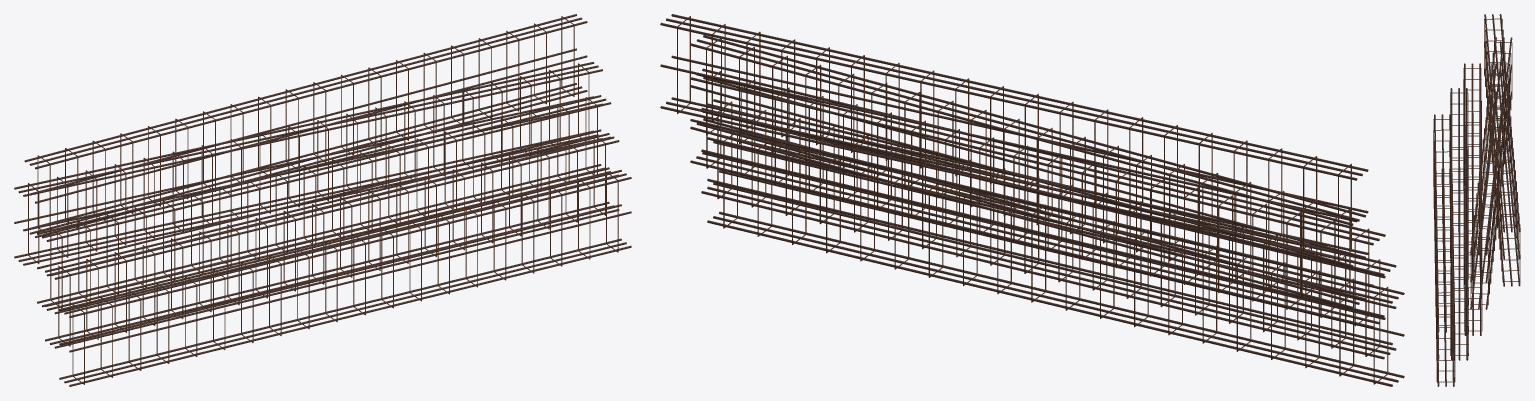
Rendered from EST-ARM-005_anim.glb.
3 views of the same model, side by side, from view 1: azimuth 30°, elevation 25°; view 2: azimuth 150°, elevation 25°; view 3: azimuth 270°, elevation 25° (orthographic). The views are drawn at different scales.
Visible parts, largest first — view 1: EST-ARM-005_anim0, EST-ARM-005_anim1, EST-ARM-005_anim3, EST-ARM-005_anim4, EST-ARM-005_anim2; view 2: EST-ARM-005_anim4, EST-ARM-005_anim3, EST-ARM-005_anim2, EST-ARM-005_anim0, EST-ARM-005_anim1; view 3: EST-ARM-005_anim4, EST-ARM-005_anim3, EST-ARM-005_anim0, EST-ARM-005_anim1, EST-ARM-005_anim2.
Part boxes in pixels (<box>): EST-ARM-005_anim0: <box>59,170,631,386</box>; EST-ARM-005_anim1: <box>45,133,619,348</box>; EST-ARM-005_anim3: <box>14,62,602,265</box>; EST-ARM-005_anim4: <box>24,14,587,237</box>; EST-ARM-005_anim2: <box>37,95,611,310</box>; EST-ARM-005_anim4: <box>660,14,1368,263</box>; EST-ARM-005_anim3: <box>690,35,1365,308</box>; EST-ARM-005_anim2: <box>690,68,1385,328</box>; EST-ARM-005_anim0: <box>707,129,1404,386</box>; EST-ARM-005_anim1: <box>701,99,1396,359</box>; EST-ARM-005_anim4: <box>1484,14,1520,286</box>; EST-ARM-005_anim3: <box>1470,37,1512,309</box>; EST-ARM-005_anim0: <box>1433,114,1455,386</box>; EST-ARM-005_anim1: <box>1450,88,1468,360</box>; EST-ARM-005_anim2: <box>1463,63,1482,335</box>.
Size of the model in its own units: 3.04 by 1.01 by 0.5113.
1 material, 1 textured.
